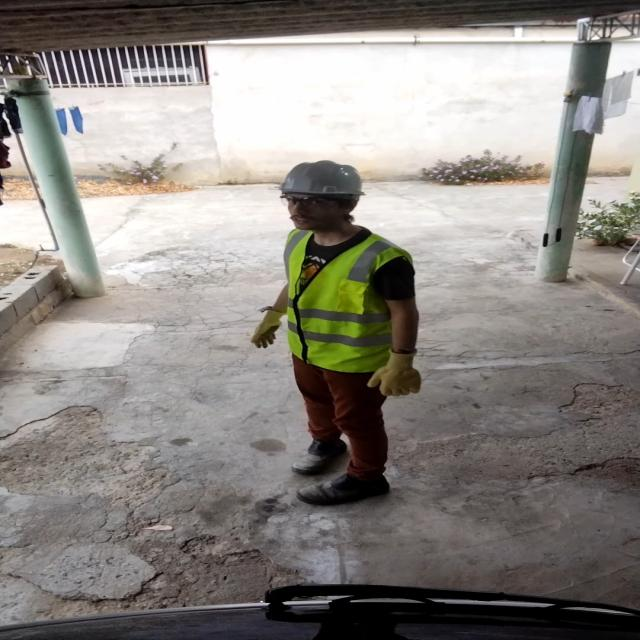glove: (360, 352, 428, 398), (249, 304, 293, 353)
helmet: (273, 158, 376, 212)
pants: (280, 354, 393, 483)
vest: (283, 230, 410, 366)
